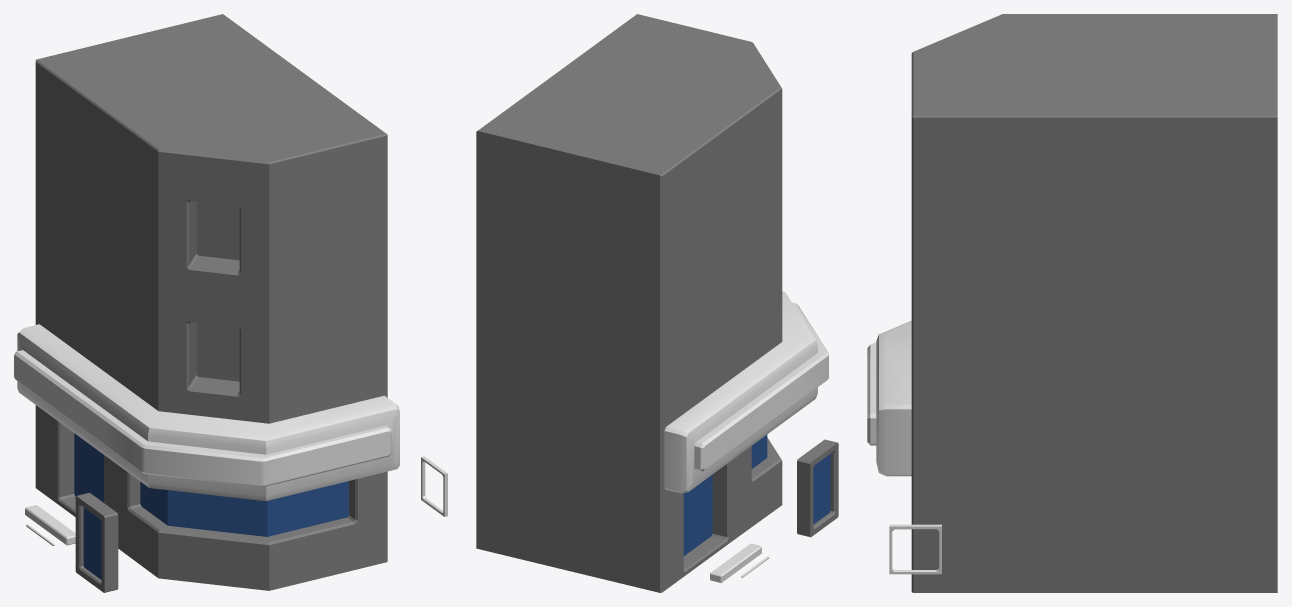
3 renders of one model, left to right at view 1: azimuth 30°, elevation 25°; view 2: azimuth 150°, elevation 25°; view 3: azimuth 270°, elevation 25°, orthographic. The views are drawn at different scales.
Parts seen in each view (by area): view 1: Box114, Box115, Box120, Box117, Box118, Torus004; view 2: Box114, Box115, Box120, Box117, Box118; view 3: Box114, Box115, Box120, Torus004.
Part boxes in pixels (bbox=[...]): Box114: bbox=[35, 14, 387, 590]; Box115: bbox=[17, 324, 399, 501]; Box120: bbox=[14, 350, 391, 487]; Box117: bbox=[75, 492, 118, 592]; Box118: bbox=[25, 505, 75, 545]; Torus004: bbox=[421, 456, 447, 516]; Box114: bbox=[476, 14, 782, 592]; Box115: bbox=[664, 291, 817, 493]; Box120: bbox=[694, 302, 828, 471]; Box117: bbox=[797, 439, 838, 537]; Box118: bbox=[710, 543, 761, 582]; Box114: bbox=[911, 14, 1277, 592]; Box115: bbox=[876, 320, 911, 476]; Box120: bbox=[867, 342, 876, 445]; Torus004: bbox=[889, 524, 941, 574].
Size of the model in its own units: 372 by 516 by 403.
